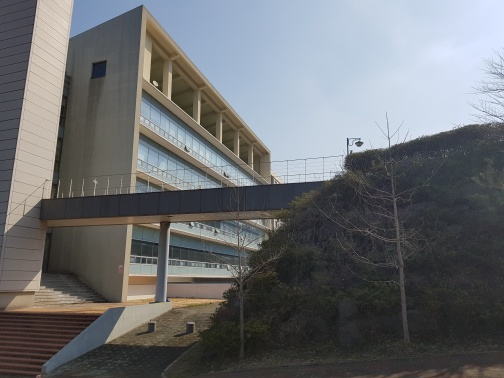Engineering College Building 4: (11, 9, 230, 293), (61, 30, 218, 194)
